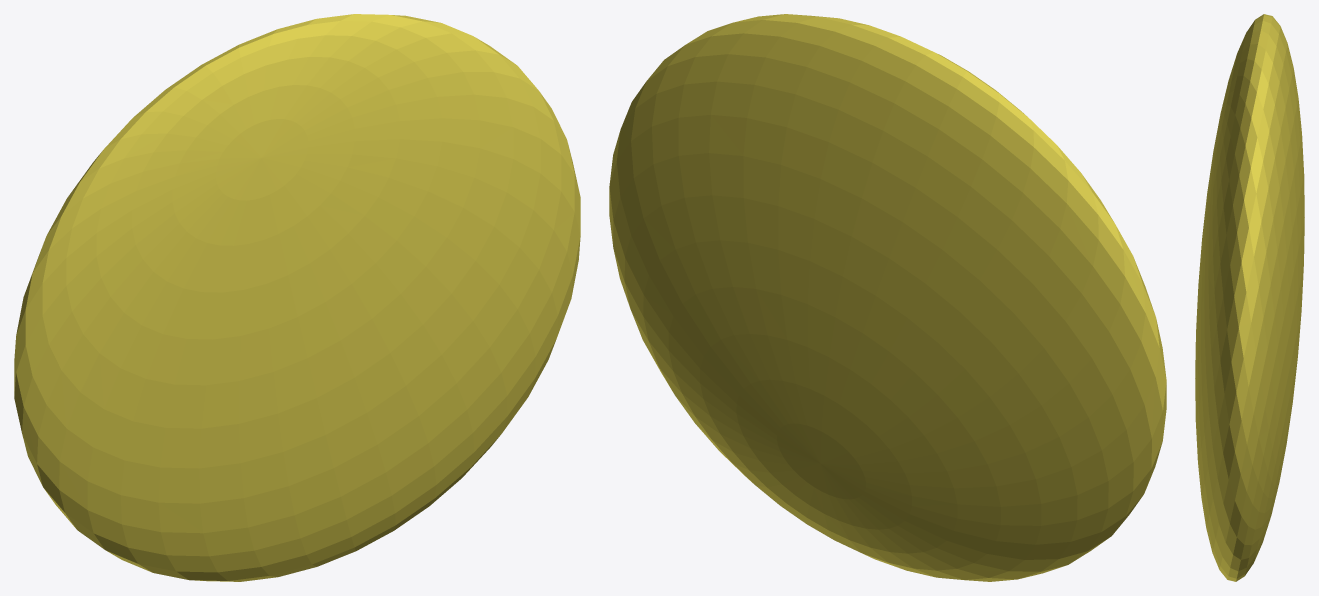
The model's file is moon.glb.
3 renders of one model, left to right at view 1: azimuth 30°, elevation 25°; view 2: azimuth 150°, elevation 25°; view 3: azimuth 270°, elevation 25°, orthographic. The views are drawn at different scales.
Visible parts, largest first — view 1: Mesh_Mesh_head_geo.001_lambert2SG.001; view 2: Mesh_Mesh_head_geo.001_lambert2SG.001; view 3: Mesh_Mesh_head_geo.001_lambert2SG.001.
Boxes of the visible parts, x1,y1,x2,y2 form: Mesh_Mesh_head_geo.001_lambert2SG.001: (14, 14, 580, 581); Mesh_Mesh_head_geo.001_lambert2SG.001: (609, 14, 1166, 581); Mesh_Mesh_head_geo.001_lambert2SG.001: (1195, 14, 1304, 581).
Size of the model in its own units: 0.0457 by 0.042 by 0.008.
